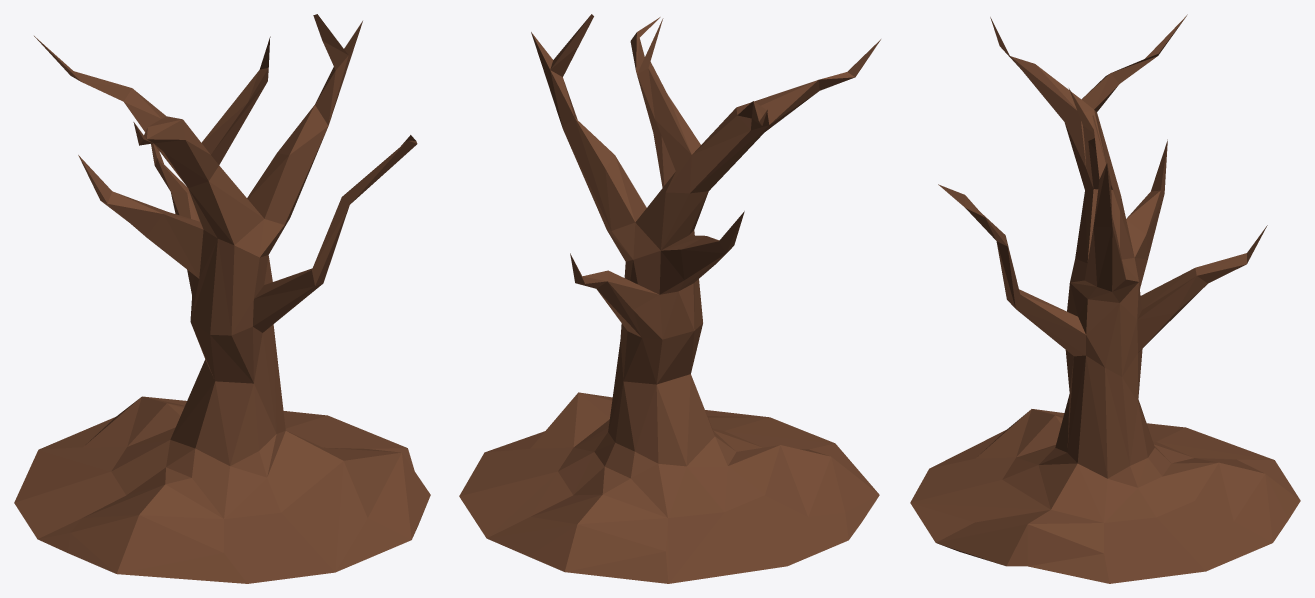
The model's file is Tree.fbx.
3 views of the same model, side by side, from view 1: azimuth 30°, elevation 25°; view 2: azimuth 150°, elevation 25°; view 3: azimuth 270°, elevation 25° (orthographic). The views are drawn at different scales.
Parts seen in each view (by area): view 1: Tree; view 2: Tree; view 3: Tree.
Part boxes in pixels (x1,y1,x2,y2): Tree: (14, 14, 430, 583); Tree: (459, 14, 880, 583); Tree: (910, 14, 1300, 583).
Size of the model in its own units: 580 by 698 by 581.
